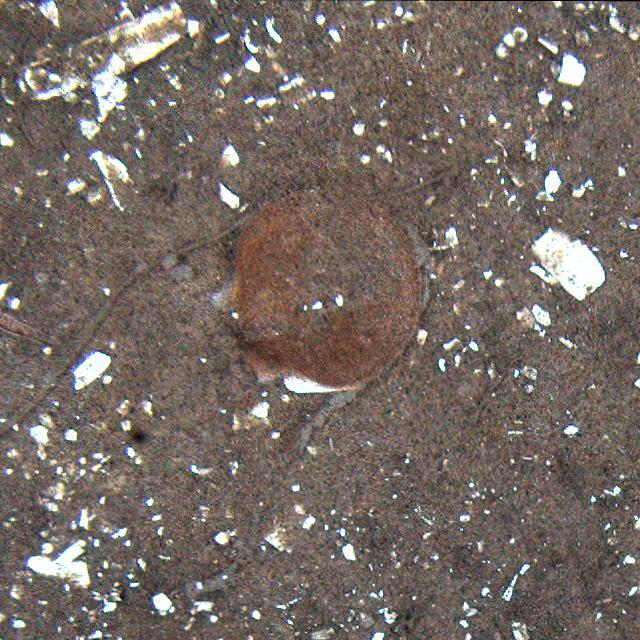scallop: (218, 188, 418, 398)
